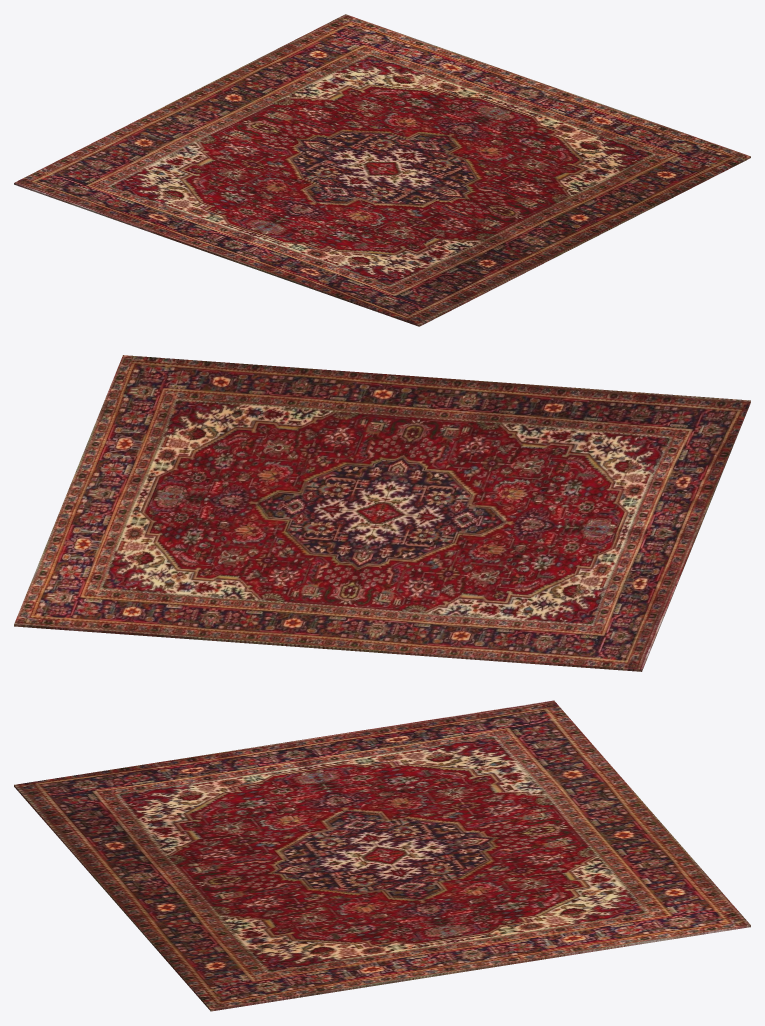
Rendered from carpet_2.glb.
The picture shows the model from 3 angles, top to bottom: view 1: azimuth 30°, elevation 25°; view 2: azimuth 150°, elevation 25°; view 3: azimuth 270°, elevation 25°; orthographic projection. The views are drawn at different scales.
Visible parts, largest first — view 1: Plane.011; view 2: Plane.011; view 3: Plane.011.
Boxes of the visible parts, <box> form: Plane.011: <box>14,14,750,326</box>; Plane.011: <box>14,355,750,671</box>; Plane.011: <box>14,700,750,1011</box>.
Bounding box in the file's own units: 21.94 × 0.0598 × 22.09.
Materials: 1 (1 with a texture image).
